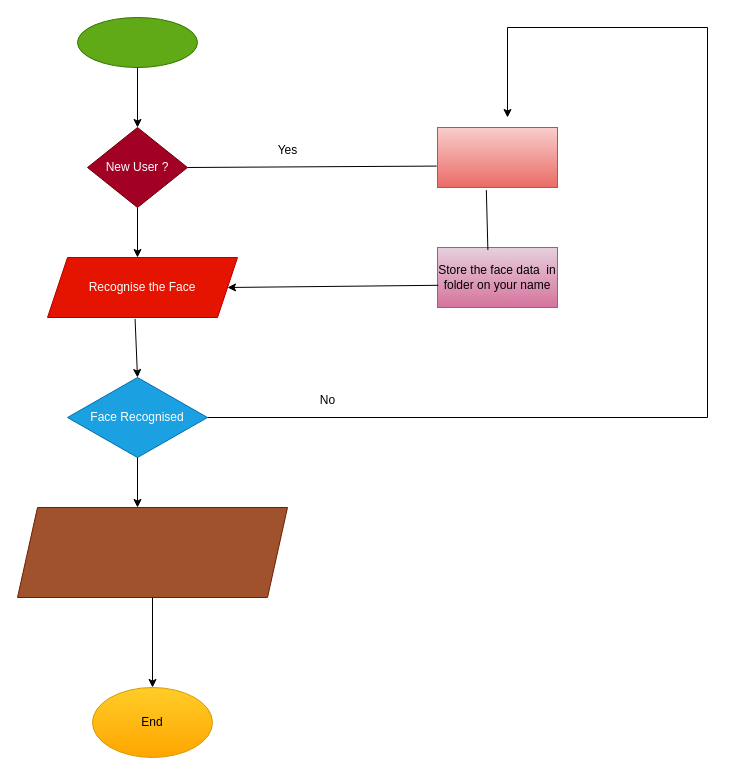
This 733x775 diagram has some shape labels left out. The centre of each missing label's shape, as x and y in pixels:
"Give your photograph" goes at [497,157].
"Start" goes at [137,42].
"Stored in CSV file with registration number & Date-Time of Entry" goes at [152,552].
